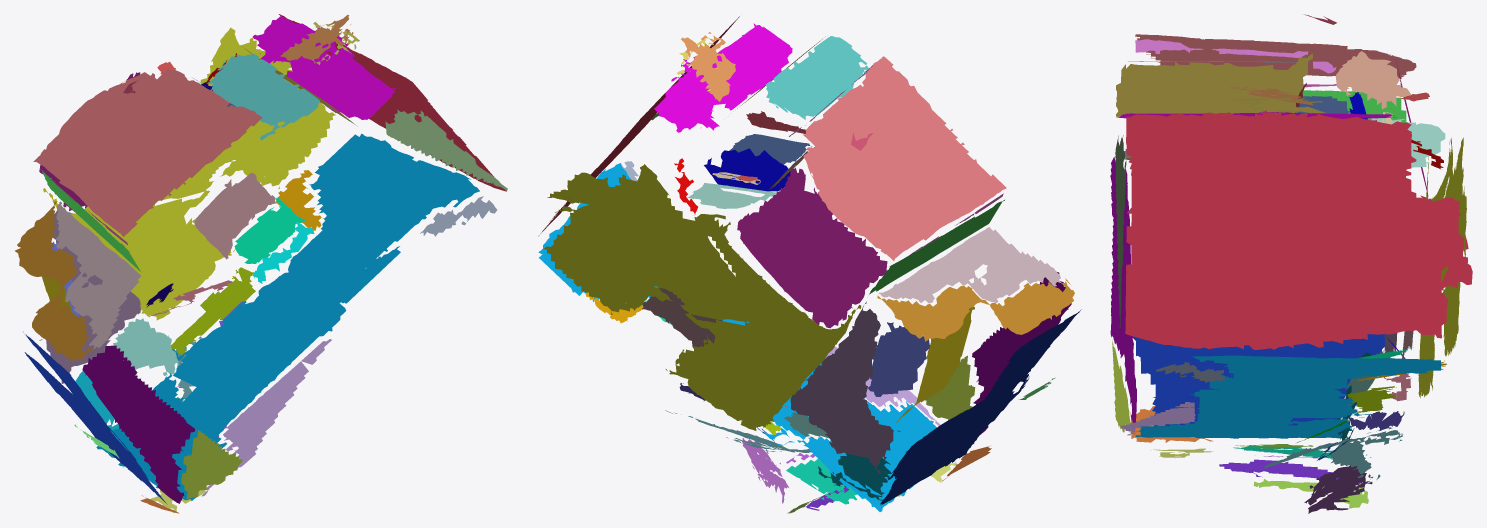
File: office1_Air.glb
The picture shows the model from 3 angles, left to right: view 1: azimuth 30°, elevation 25°; view 2: azimuth 150°, elevation 25°; view 3: azimuth 270°, elevation 25°; orthographic projection. The views are drawn at different scales.
Visible parts, largest first — view 1: world; view 2: world; view 3: world.
Boxes of the visible parts, x1,y1,x2,y2 form: world: (15,14,507,513); world: (538,16,1081,513); world: (1110,14,1472,513).
Bounding box in the file's own units: 4.99 × 4.52 × 2.94.
